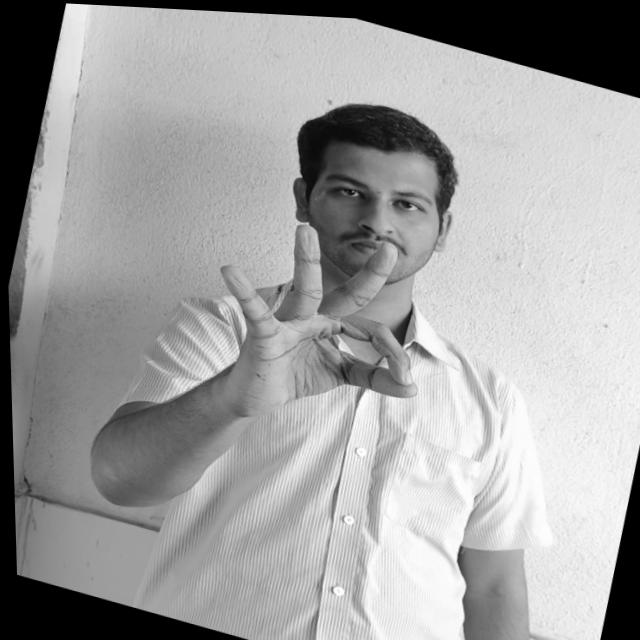Superb: (188, 199, 449, 443)
